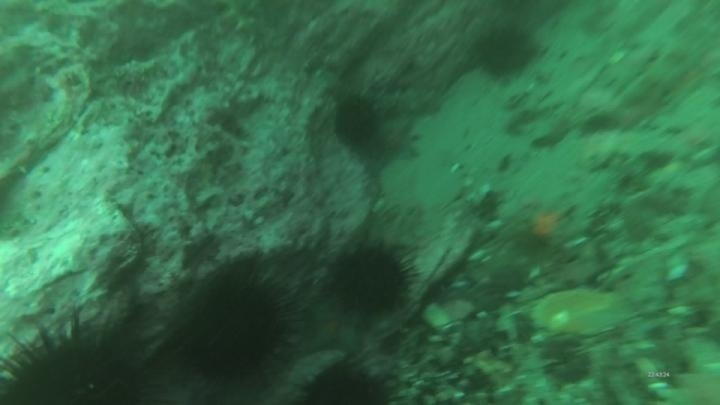echinus: (176, 261, 300, 388), (1, 317, 162, 404), (328, 240, 416, 321), (294, 360, 400, 404), (470, 23, 540, 81), (331, 92, 384, 150)
holothurian: (367, 83, 445, 120)
starfish: (299, 297, 366, 359), (519, 199, 578, 251), (369, 114, 422, 166)
